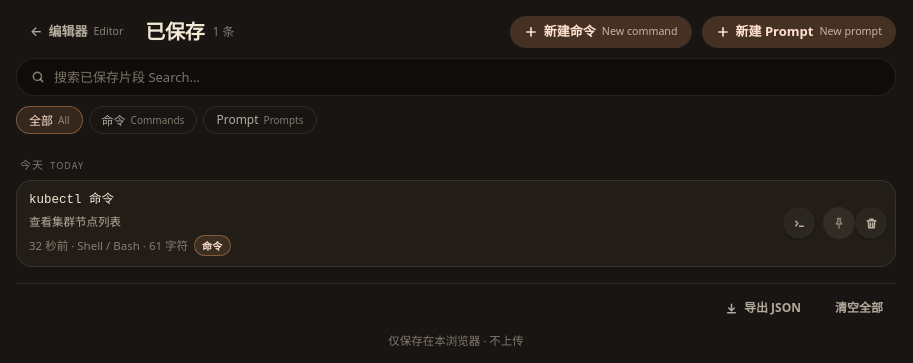
Test case: SavedPage（已保存片段库） › 备注显示在条目行标题下方，且搜索能按备注命中
Check: the text "查看集群节点列表" is shown, box x1=29 y1=214 x2=121 y2=230
Type "集群节点" into the field labelled "搜索已保存片段" at [468, 77], box x1=54 y1=59 x2=881 y2=95
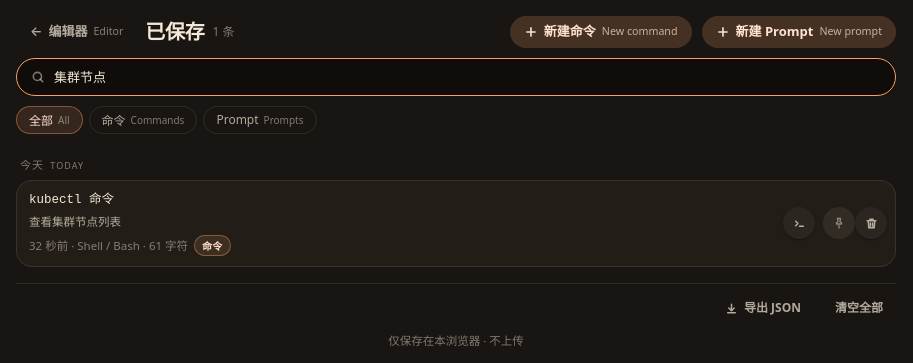
Check: the button "kubectl 命令 查看集群节点列表 32 秒前 · Shell / Bash · 61 字符 命令" is shown, box x1=17 y1=181 x2=783 y2=266
Replace the text in the field named "搜索已保存片段" with "备注里没有的词" at [468, 77], box x1=54 y1=59 x2=881 y2=95
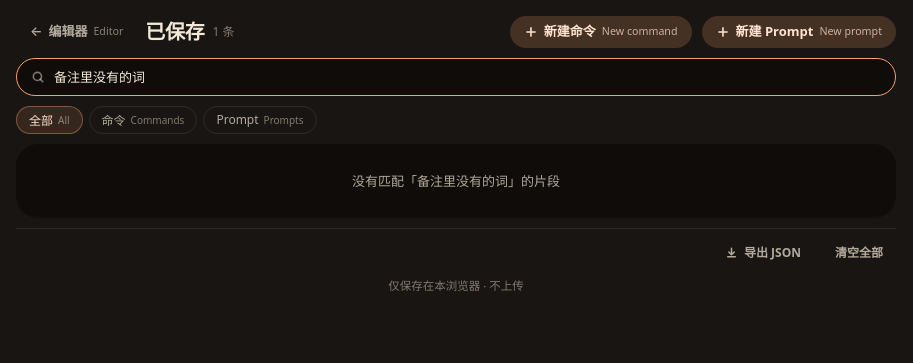
Check: the text "没有匹配「备注里没有的词」的片段" is shown, box x1=16 y1=144 x2=896 y2=218
